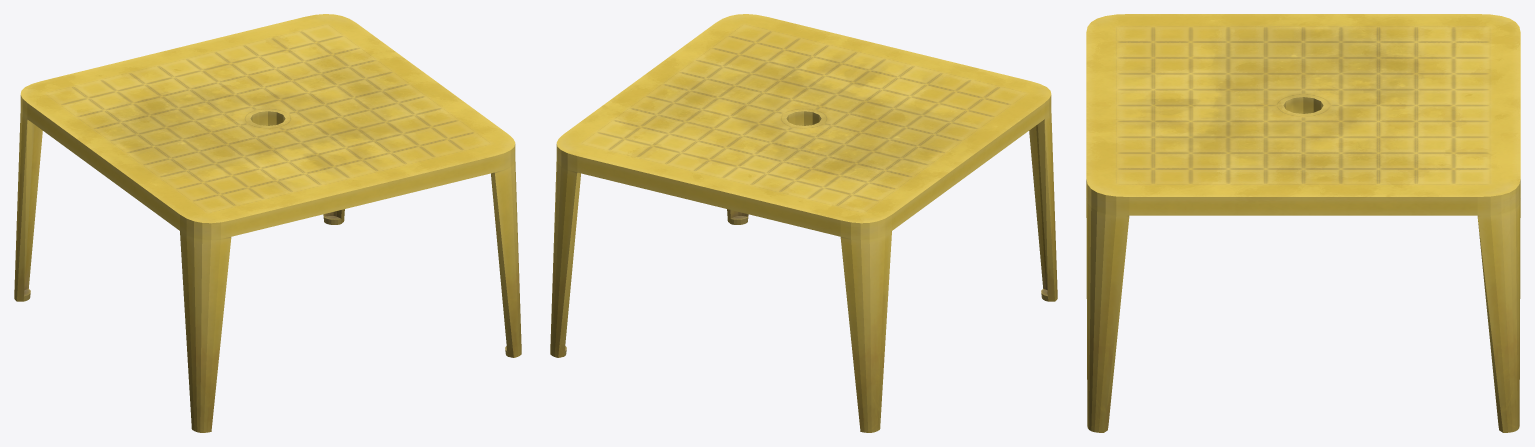
The model's file is P_Table_034_S1_M03.obj.
3 renders of one model, left to right at view 1: azimuth 30°, elevation 25°; view 2: azimuth 150°, elevation 25°; view 3: azimuth 270°, elevation 25°, orthographic. The views are drawn at different scales.
Bounding box in the file's own units: 1.5 × 0.901 × 1.5.
Materials: 1 (1 with a texture image).
